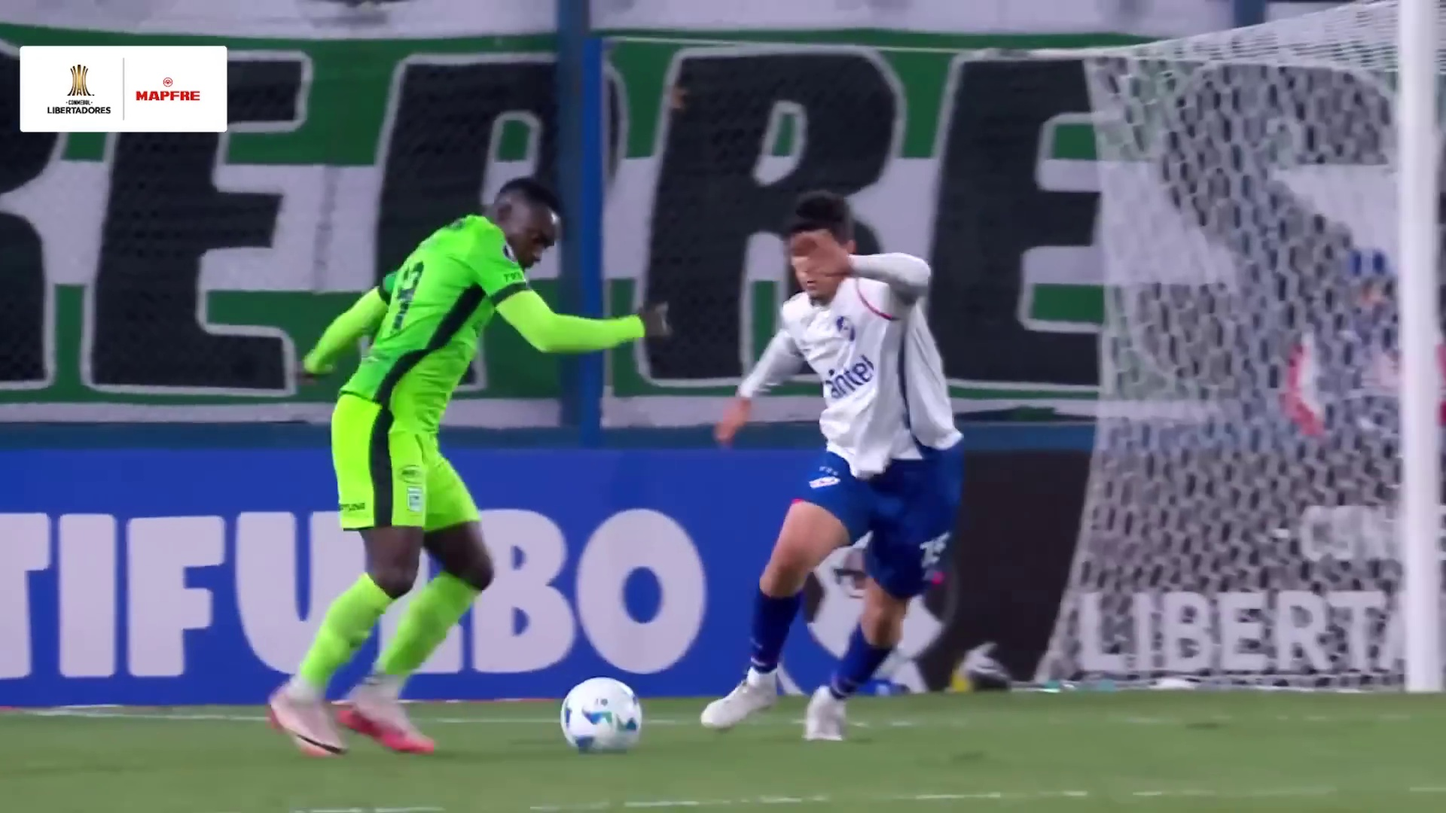ball: (549, 675, 649, 763)
player: (260, 170, 678, 757), (693, 184, 963, 744)
